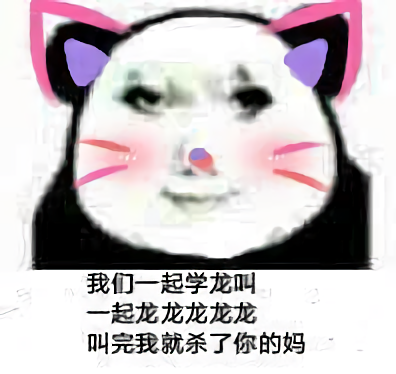dragon: (113, 66, 283, 219)
